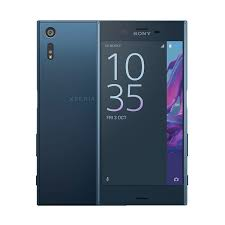sony: (93, 16, 191, 209), (36, 16, 98, 208)
